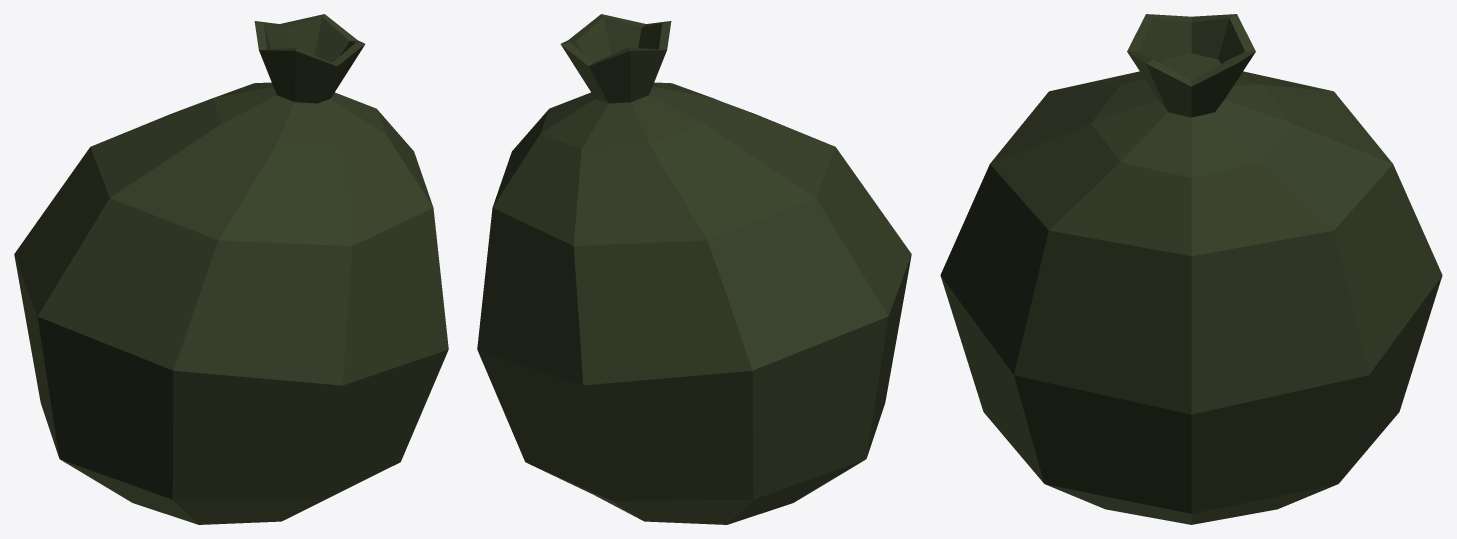
Rendered from Prop_TrashBag_03.fbx.
The picture shows the model from 3 angles, left to right: view 1: azimuth 30°, elevation 25°; view 2: azimuth 150°, elevation 25°; view 3: azimuth 270°, elevation 25°; orthographic projection. The views are drawn at different scales.
Parts seen in each view (by area): view 1: Prop_TrashBag_03; view 2: Prop_TrashBag_03; view 3: Prop_TrashBag_03.
Part boxes in pixels (x1,y1,x2,y2): Prop_TrashBag_03: [14, 14, 448, 524]; Prop_TrashBag_03: [477, 14, 911, 524]; Prop_TrashBag_03: [940, 14, 1442, 524].
Size of the model in its own units: 47.23 by 50.63 by 47.44.
